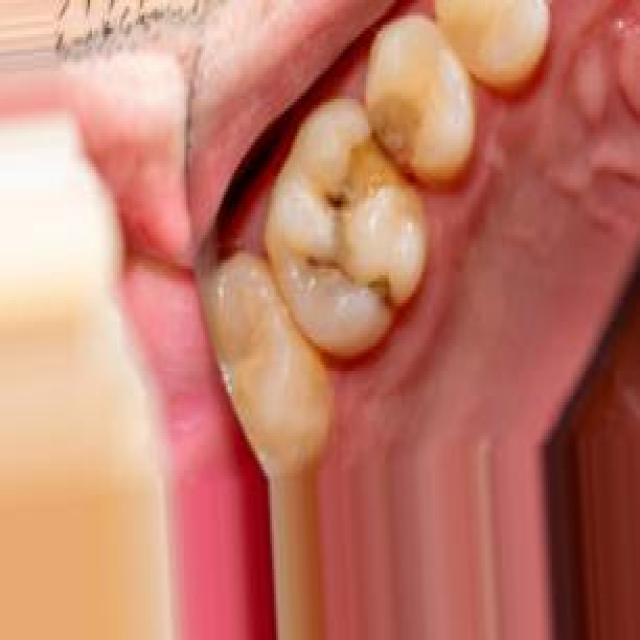caries: (308, 88, 426, 231), (301, 238, 402, 332)
